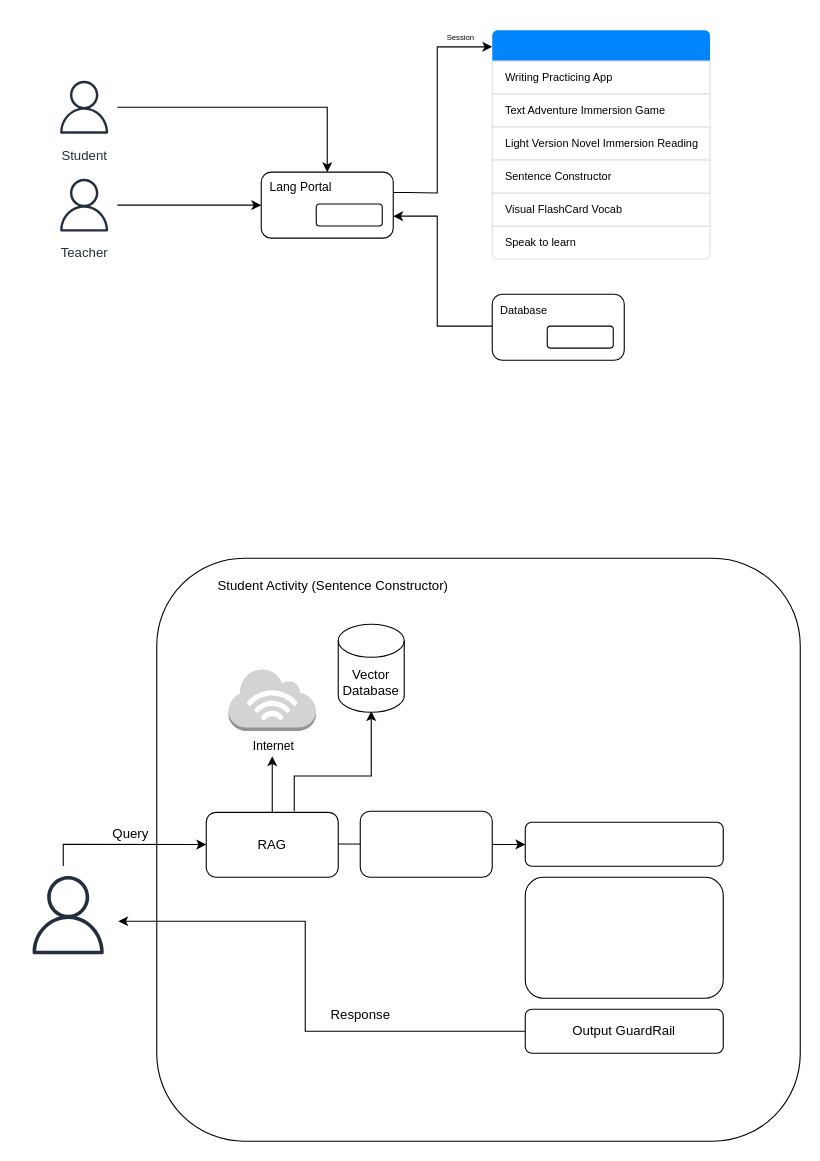
Image size: 820x1161. Some labels were removed from this diagram. The shapes that lost their labels are listed below. From the top down, each one's box as (x1, y1, x2, y2) in pixels, then its label:
(492, 30, 710, 61): Student Activities
(315, 203, 382, 226): Word Group
(546, 325, 613, 348): Core 2000 words
(359, 810, 492, 877): Prompt Caching
(524, 821, 723, 866): Input GuardRail
(18, 865, 117, 964): User
(524, 876, 723, 998): LLM 7B
